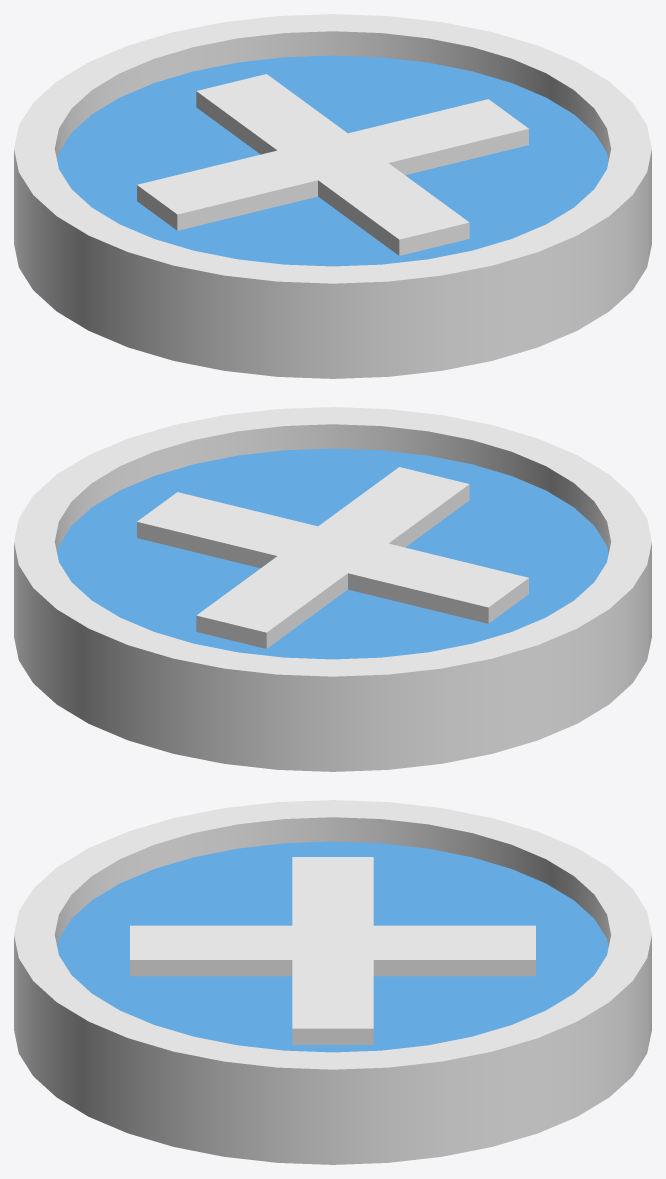
The model's file is plus_button.glb.
3 renders of one model, top to bottom at view 1: azimuth 30°, elevation 25°; view 2: azimuth 150°, elevation 25°; view 3: azimuth 270°, elevation 25°, orthographic.
Visible parts, largest first — view 1: polySurface1, polySurface2, pCube2, pCube1; view 2: polySurface1, polySurface2, pCube1, pCube2; view 3: polySurface1, polySurface2, pCube2, pCube1.
Boxes of the visible parts, bbox=[...] form: polySurface1: bbox=[14, 14, 651, 378]; polySurface2: bbox=[57, 55, 608, 266]; pCube2: bbox=[196, 74, 469, 255]; pCube1: bbox=[137, 99, 528, 230]; polySurface1: bbox=[14, 407, 651, 771]; polySurface2: bbox=[57, 448, 608, 659]; pCube1: bbox=[137, 492, 528, 623]; pCube2: bbox=[196, 467, 469, 648]; polySurface1: bbox=[14, 800, 651, 1164]; polySurface2: bbox=[57, 841, 608, 1052]; pCube2: bbox=[130, 925, 535, 976]; pCube1: bbox=[292, 857, 373, 1044].
Size of the model in its own units: 0.2357 by 0.0388 by 0.2357.
